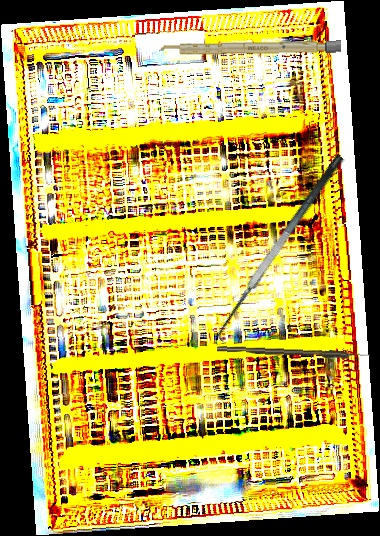Hook Surgical: (216, 345, 371, 360)
Scalpel Handle: (158, 40, 342, 56)
Spatula Surgical: (207, 153, 360, 348)
